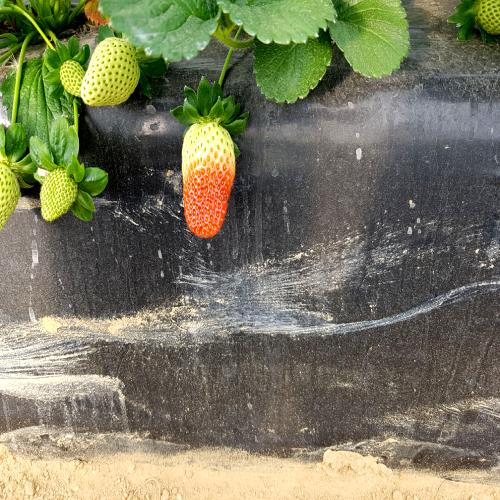partially-ripe: (176, 110, 240, 260)
